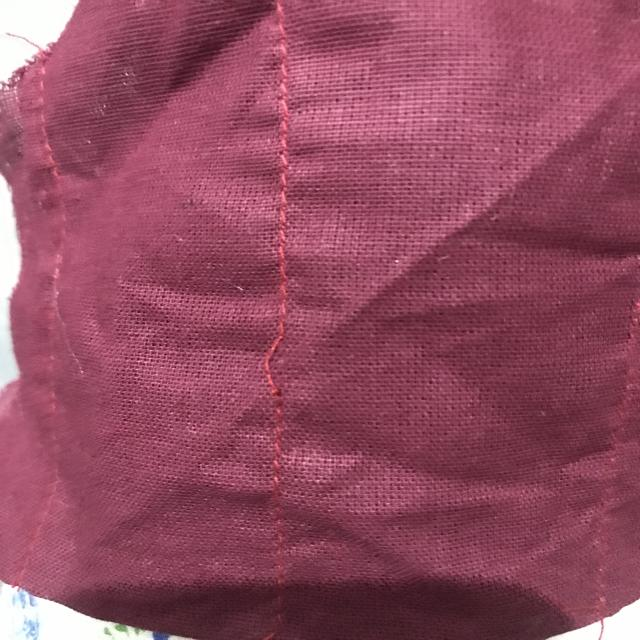good: (257, 155, 308, 263)
skip: (227, 317, 310, 403)
